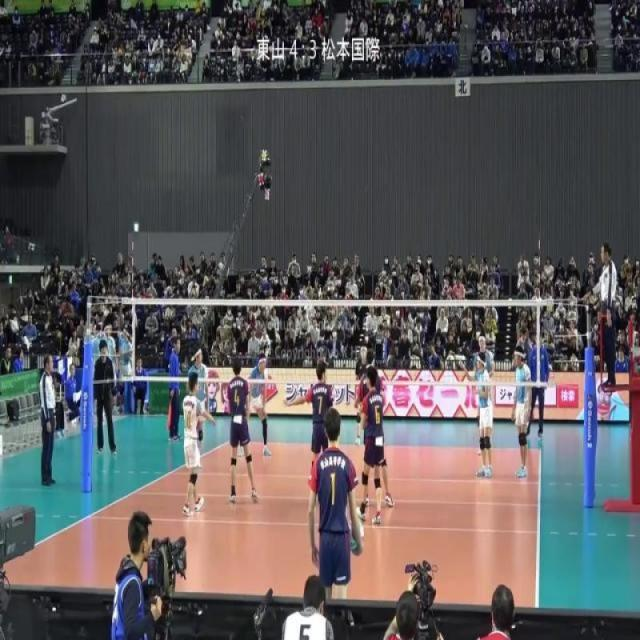volleyball: (347, 519, 366, 552)
